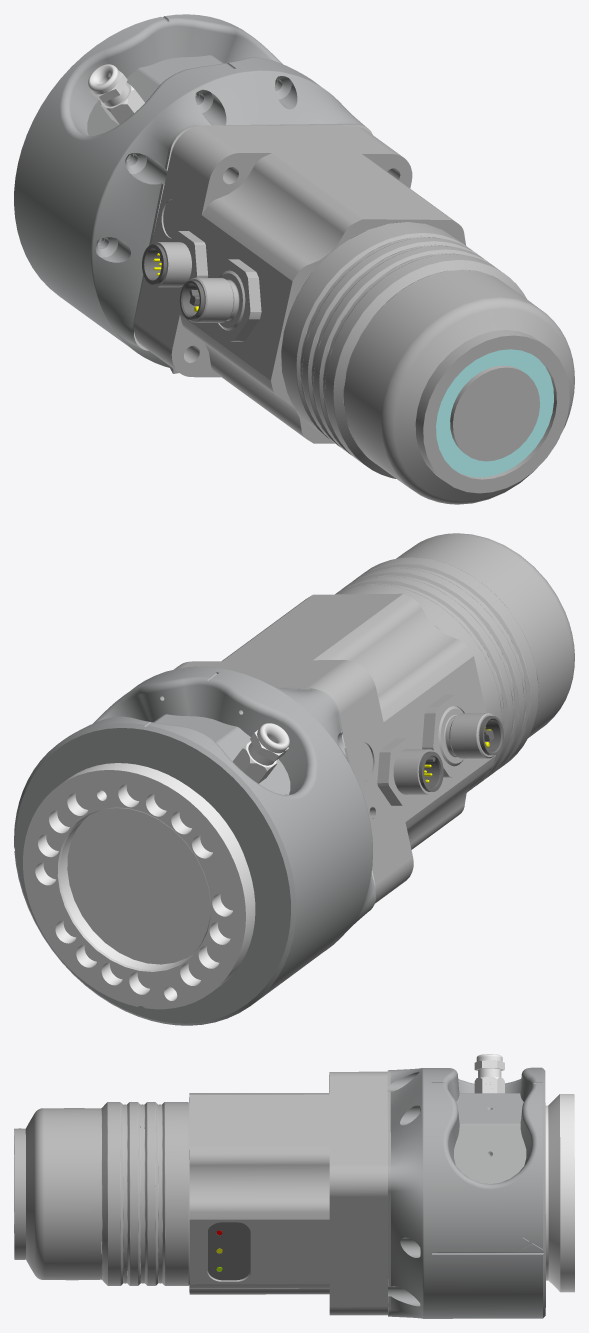
File: 0941_E-Schunk-EMH-RP-045-B.glb
3 views of the same model, one above another, from view 1: azimuth 30°, elevation 25°; view 2: azimuth 150°, elevation 25°; view 3: azimuth 270°, elevation 25° (orthographic). The views are drawn at different scales.
Parts seen in each view (by area): view 1: Body1.003, Body1.001; view 2: Body1.003, Body1.001, Body1.004; view 3: Body1.003, Body1.001, Body1.004.
Part boxes in pixels (bbox=[...]): Body1.003: bbox=[134, 125, 574, 504]; Body1.001: bbox=[14, 14, 366, 373]; Body1.003: bbox=[174, 533, 574, 903]; Body1.001: bbox=[14, 666, 375, 1025]; Body1.004: bbox=[23, 763, 255, 1009]; Body1.003: bbox=[14, 1071, 388, 1315]; Body1.001: bbox=[387, 1054, 545, 1318]; Body1.004: bbox=[545, 1094, 574, 1292].
Bounding box in the file's own units: 0.0904 × 0.0874 × 0.1922.
